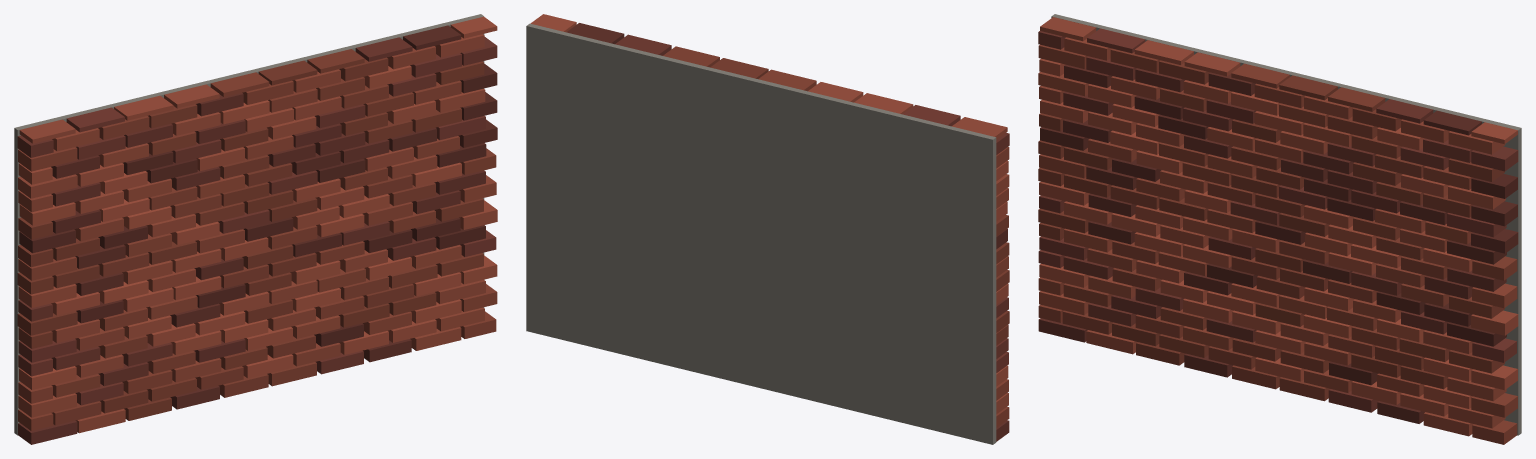
File: wall_default.fbx
3 views of the same model, side by side, from view 1: azimuth 30°, elevation 25°; view 2: azimuth 150°, elevation 25°; view 3: azimuth 330°, elevation 25° (orthographic).
Visible parts, largest first — view 1: wall_default; view 2: wall_default; view 3: wall_default.
Boxes of the visible parts, <box> form: wall_default: <box>14,14,497,444</box>; wall_default: <box>526,14,1009,444</box>; wall_default: <box>1038,14,1521,444</box>.
Size of the model in its own units: 400 by 250 by 24.6.
